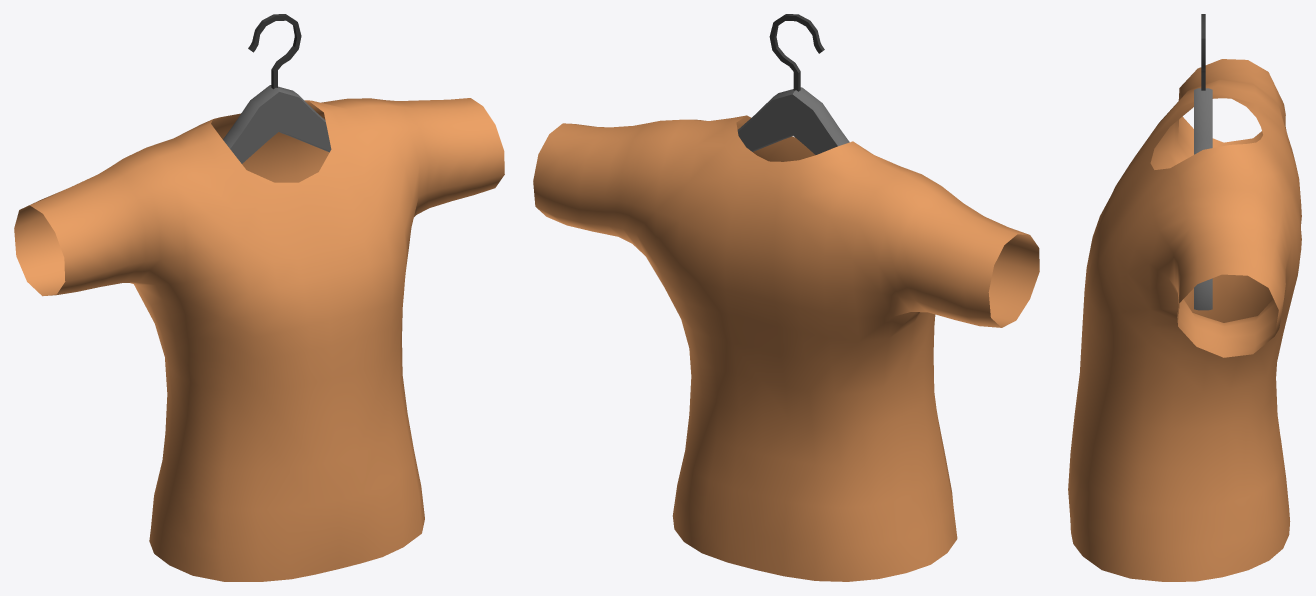
The model's file is T-shirt_uv4.fbx.
3 renders of one model, left to right at view 1: azimuth 30°, elevation 25°; view 2: azimuth 150°, elevation 25°; view 3: azimuth 270°, elevation 25°, orthographic. The views are drawn at different scales.
Visible parts, largest first — view 1: T shirt, Hanger; view 2: T shirt, Hanger; view 3: T shirt, Hanger.
Boxes of the visible parts, <box> form: T shirt: <box>14,98,504,581</box>; Hanger: <box>223,14,331,163</box>; T shirt: <box>533,115,1039,581</box>; Hanger: <box>737,14,849,154</box>; T shirt: <box>1068,59,1301,581</box>; Hanger: <box>1194,14,1212,310</box>.
Size of the model in its own units: 71.06 by 77.69 by 32.5.
